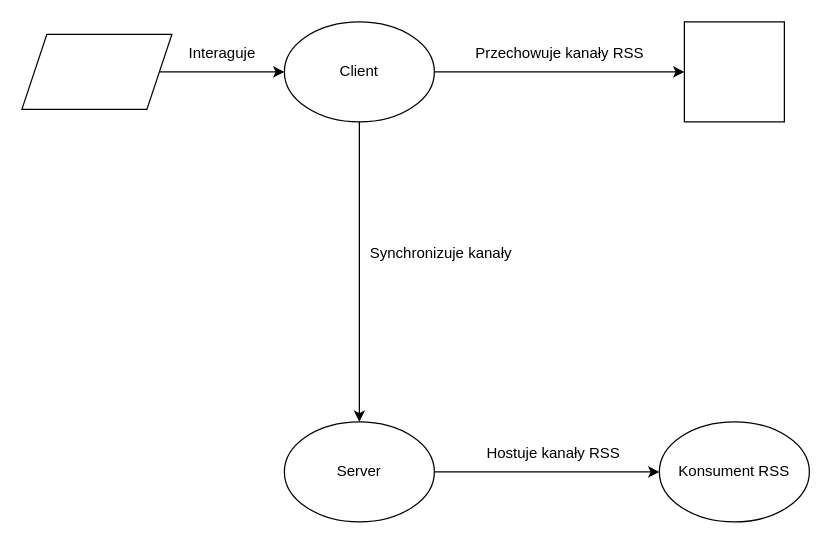
This 831x544 diagram has some shape labels left out. The centre of each missing label's shape, as x and y in pixels:
App Data: point (733, 71)
Użytkownik: point (96, 71)
